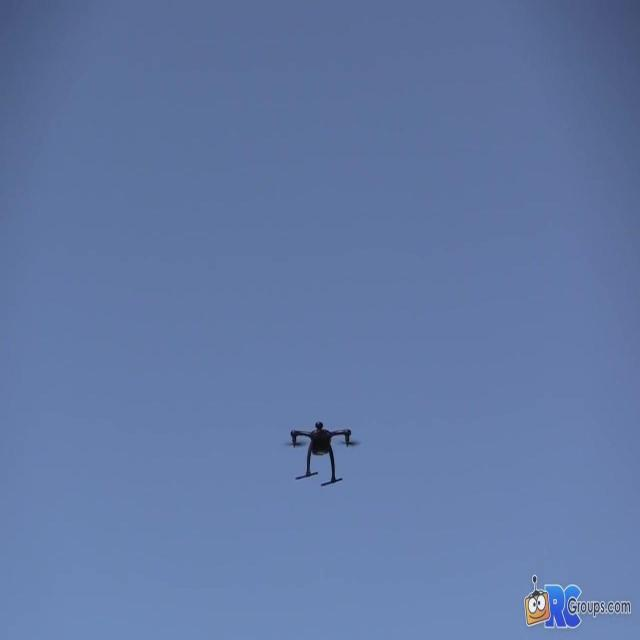drone: (284, 418, 362, 491)
